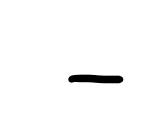minus: (69, 74, 123, 86)
